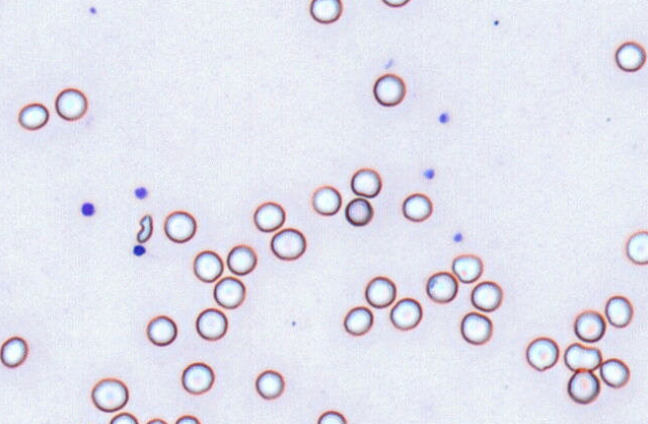PLT: (132, 244, 147, 257), (82, 202, 94, 218), (134, 186, 148, 199), (422, 168, 435, 179), (455, 230, 465, 243), (440, 111, 450, 124), (90, 7, 96, 16)
RBC: (91, 377, 128, 412), (270, 227, 305, 260), (54, 87, 87, 121), (567, 369, 599, 404), (526, 336, 558, 371), (389, 297, 422, 330), (163, 210, 196, 243), (460, 311, 492, 345), (181, 362, 214, 394), (195, 307, 227, 340), (373, 73, 405, 106), (213, 276, 245, 308), (574, 310, 605, 342), (146, 314, 177, 346), (470, 280, 502, 311), (599, 357, 630, 388), (615, 41, 646, 72), (426, 271, 457, 302), (365, 276, 396, 307), (193, 250, 223, 282), (253, 201, 285, 231), (226, 244, 256, 275), (451, 253, 482, 283), (350, 167, 381, 197), (343, 305, 373, 335), (311, 185, 341, 215), (0, 335, 28, 367), (605, 295, 633, 327), (255, 369, 284, 399), (402, 192, 432, 221), (17, 102, 48, 130), (345, 197, 372, 225), (309, 0, 341, 23), (626, 231, 648, 264), (317, 410, 346, 424), (109, 412, 138, 424), (174, 414, 200, 424), (380, 0, 411, 7), (145, 417, 168, 424), (76, 421, 102, 424)
Schistocyte: (564, 344, 603, 371), (137, 215, 153, 242)
